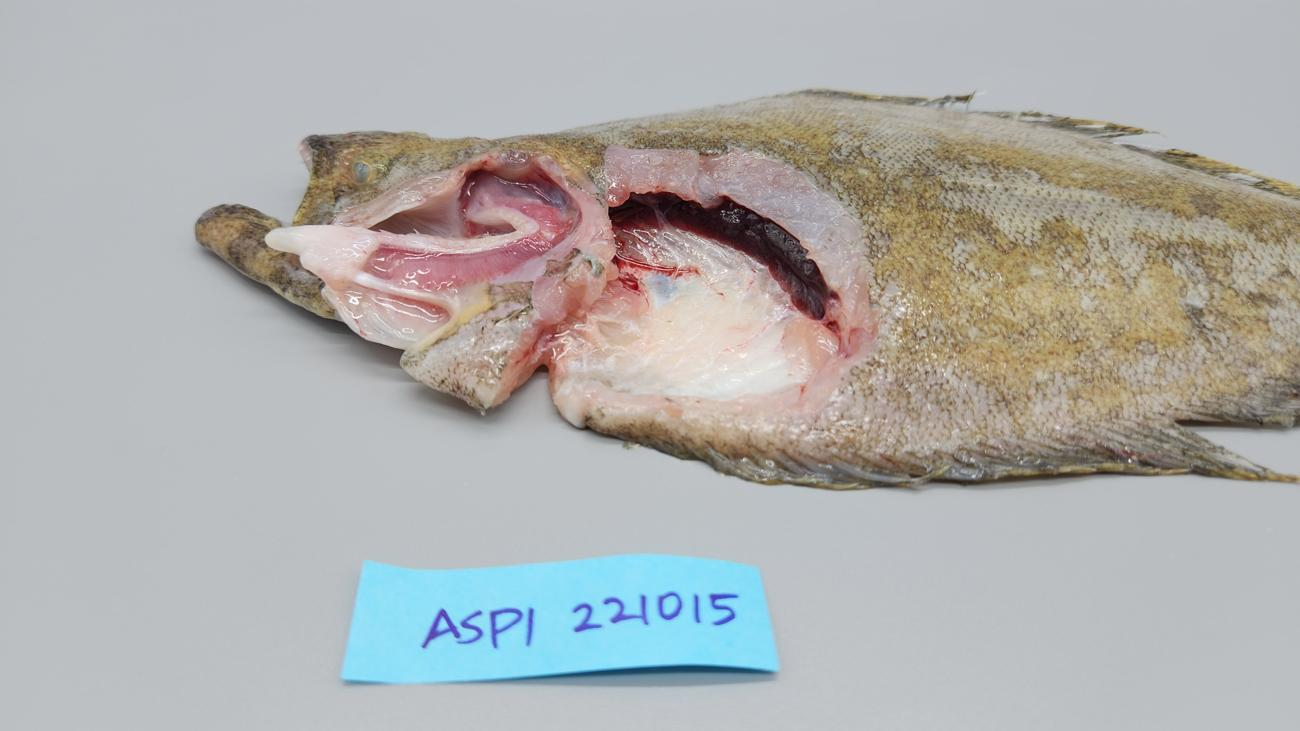SPASQ: (561, 255, 802, 398)
